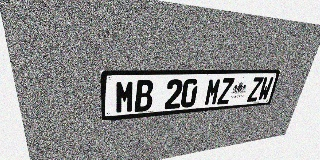0: (180, 79, 199, 108)
2: (164, 79, 183, 109)
B: (134, 80, 154, 112)
M: (115, 80, 135, 114), (204, 78, 222, 106)
W: (257, 77, 274, 101)
Z: (217, 78, 235, 105), (247, 77, 264, 102)
